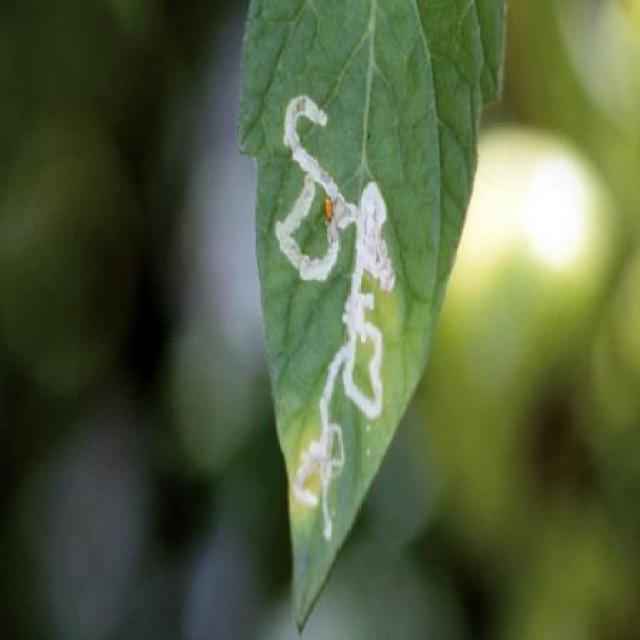Leaf Miner: (237, 0, 509, 640)
